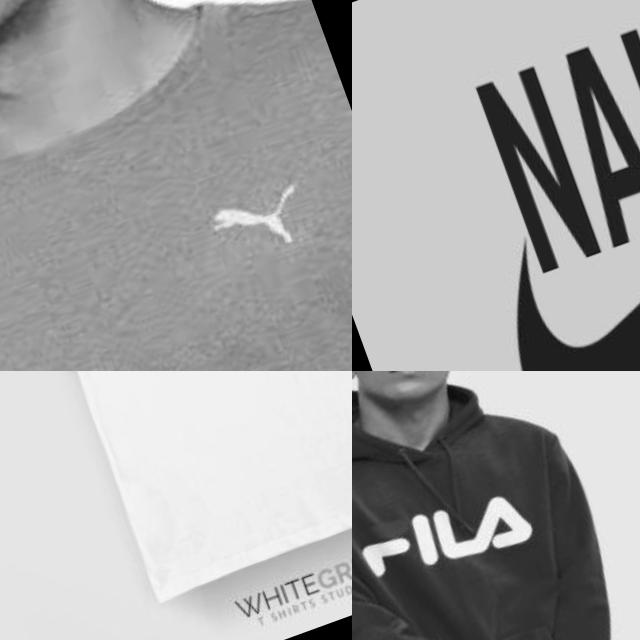FILA_original: (352, 437, 554, 622)
NIKE_fake: (399, 0, 640, 371)
PUMA_original: (190, 172, 324, 276)
